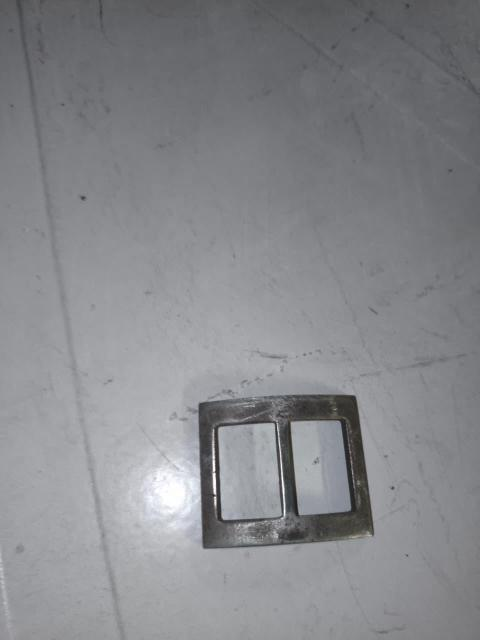Metal: (198, 392, 372, 550)
